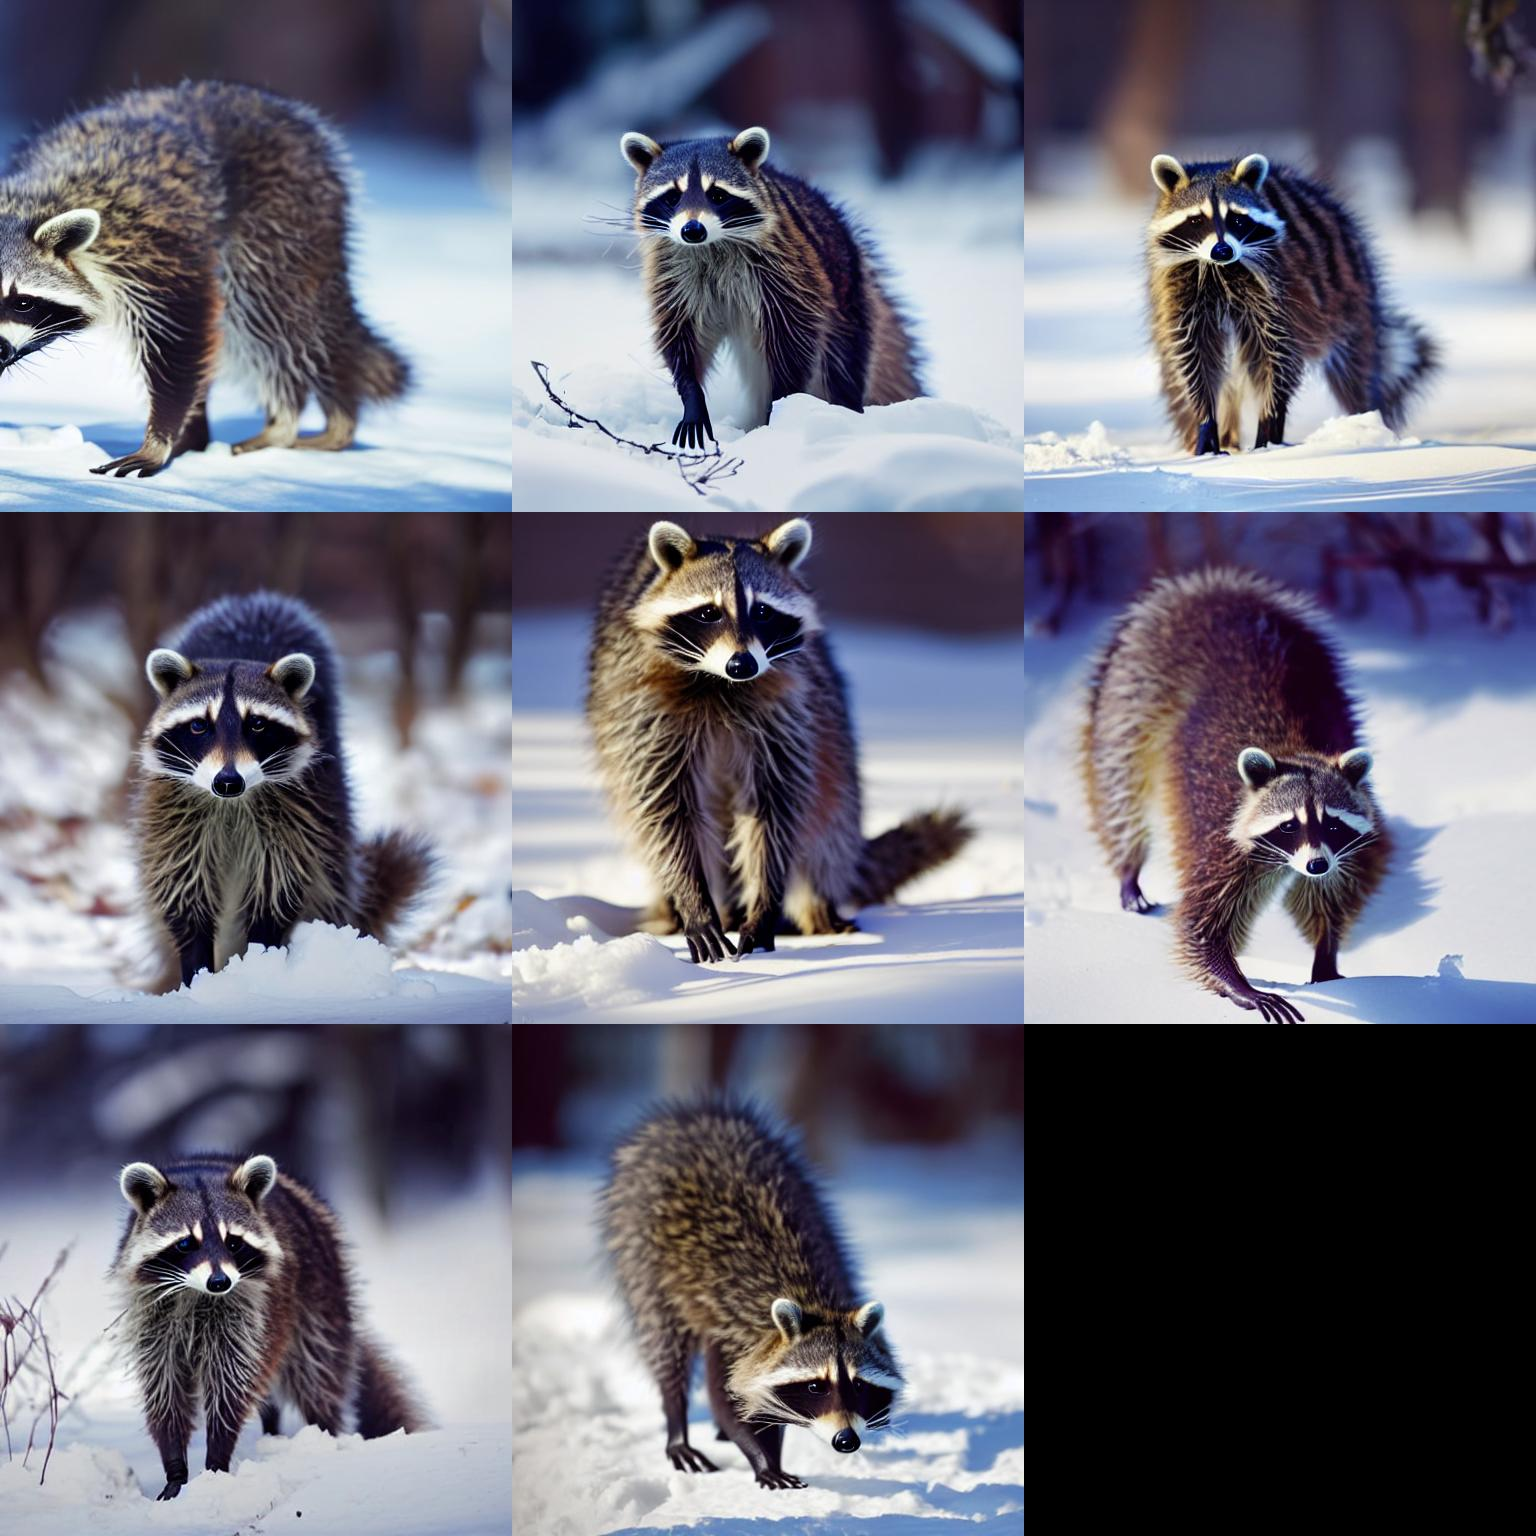raccoon: (544, 515, 985, 904), (0, 70, 440, 421), (1062, 547, 1409, 949), (572, 1084, 917, 1460), (105, 570, 447, 945), (589, 105, 948, 405), (96, 1128, 440, 1435), (1117, 125, 1454, 415)
